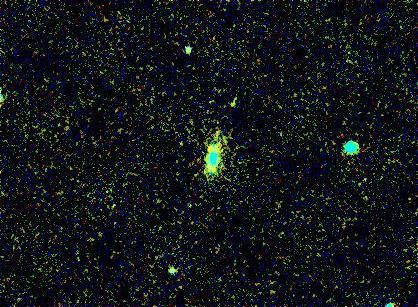star: (215, 91, 245, 121)
